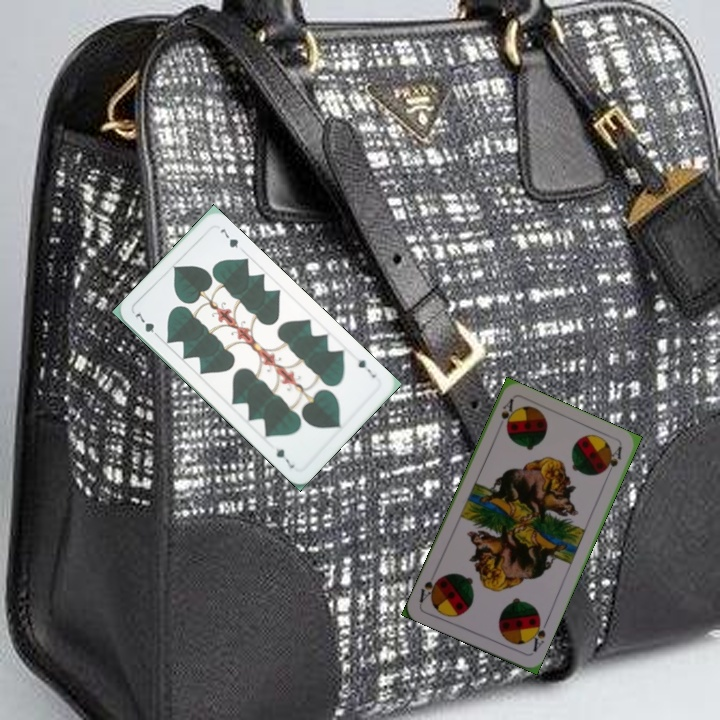G7: (131, 307, 163, 341), (354, 355, 379, 380)
SA: (525, 614, 550, 655), (493, 395, 517, 434)
